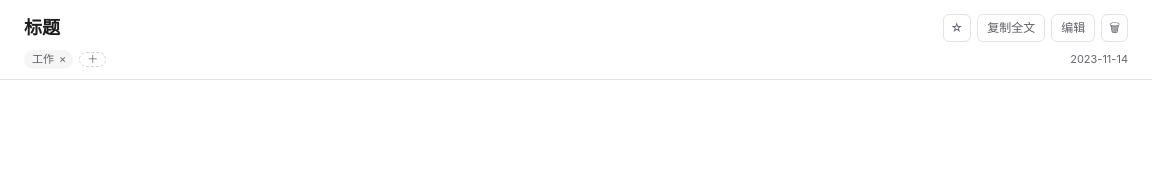
Test case: NoteHeader tag editing › offers only the tags the note does not carry yet
Click the button with class "chip-add" at [93, 59], box x1=79 y1=52 x2=106 y2=67
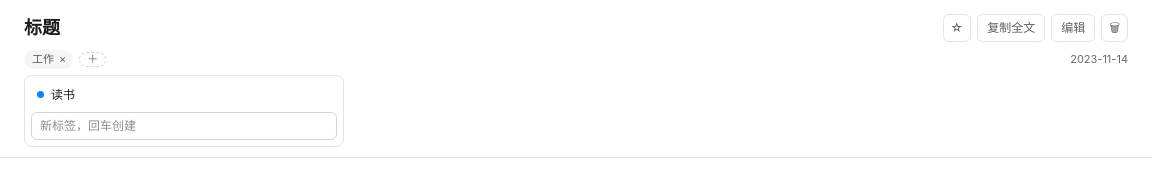
Check: the elements with class "option" read "读书", in this order, box x1=31 y1=82 x2=337 y2=108
